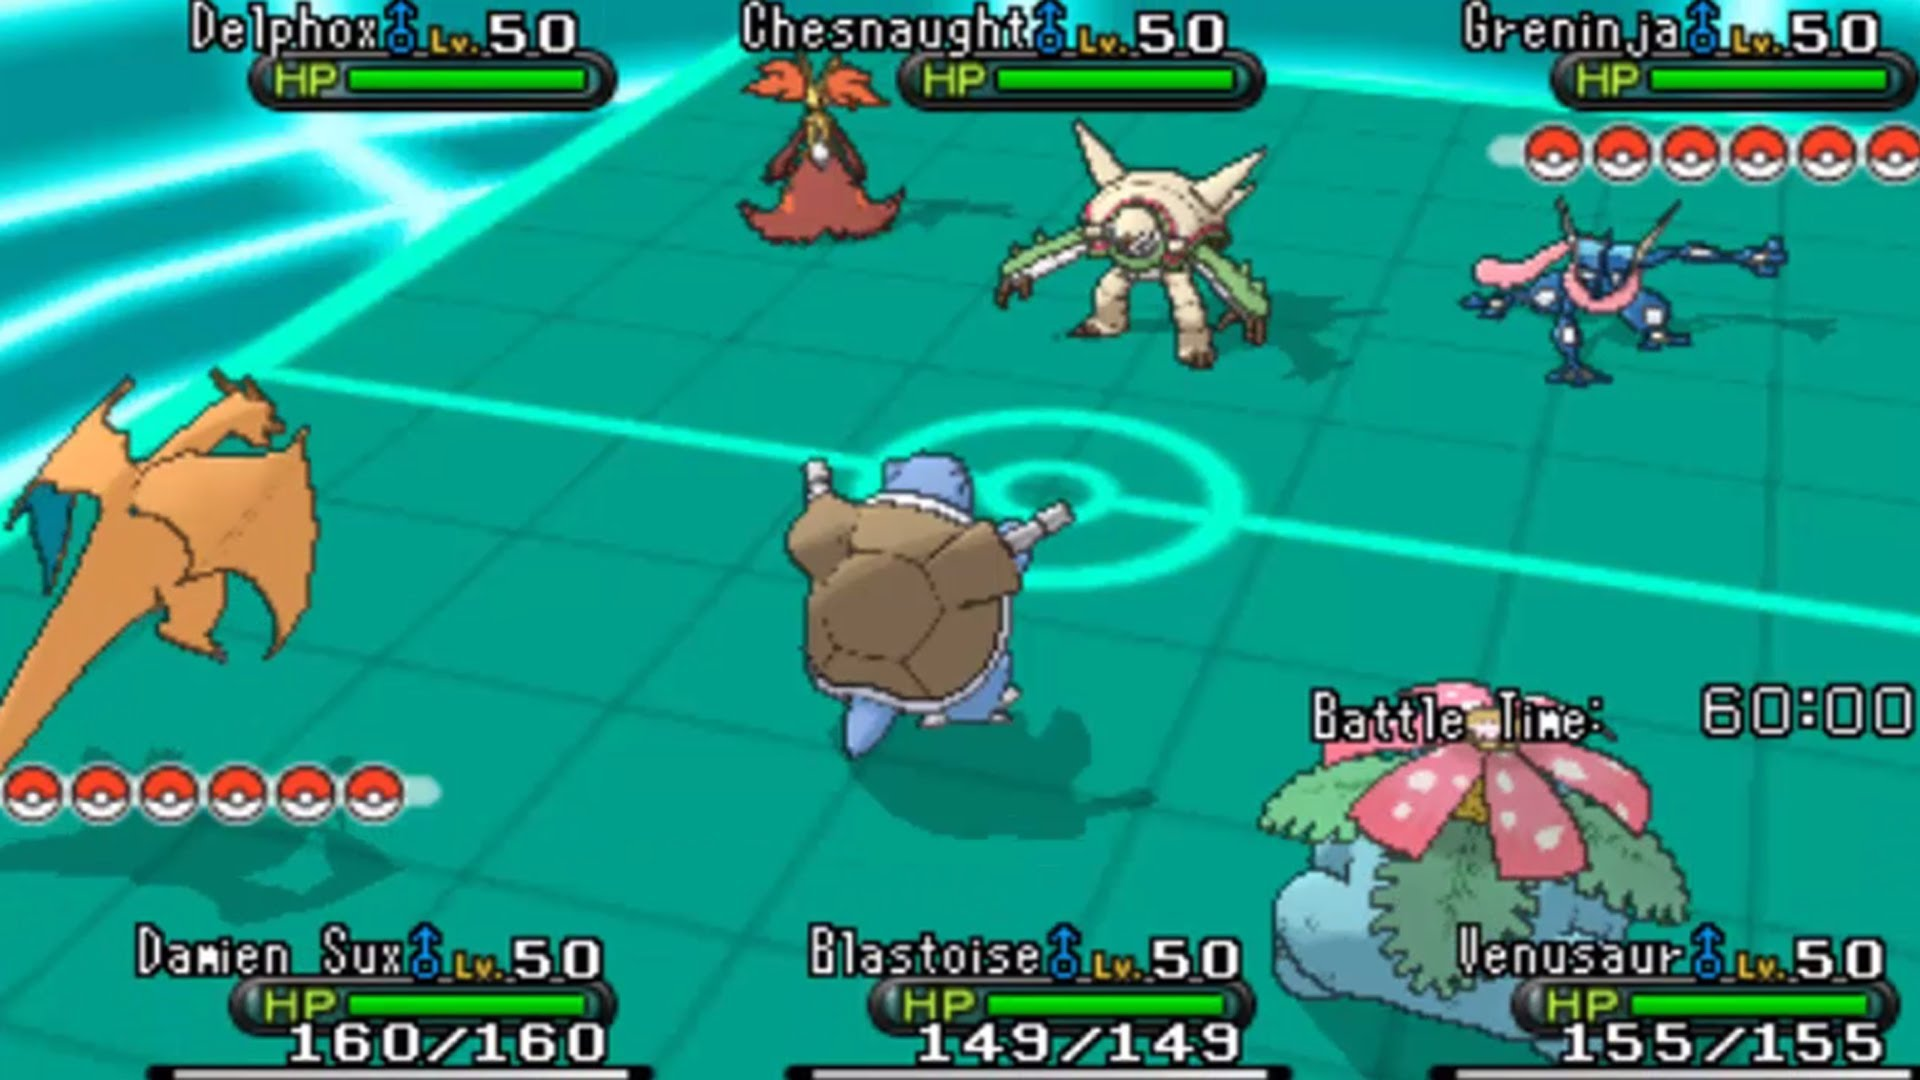charizard: (1, 355, 342, 761)
greninja: (1452, 185, 1799, 375)
